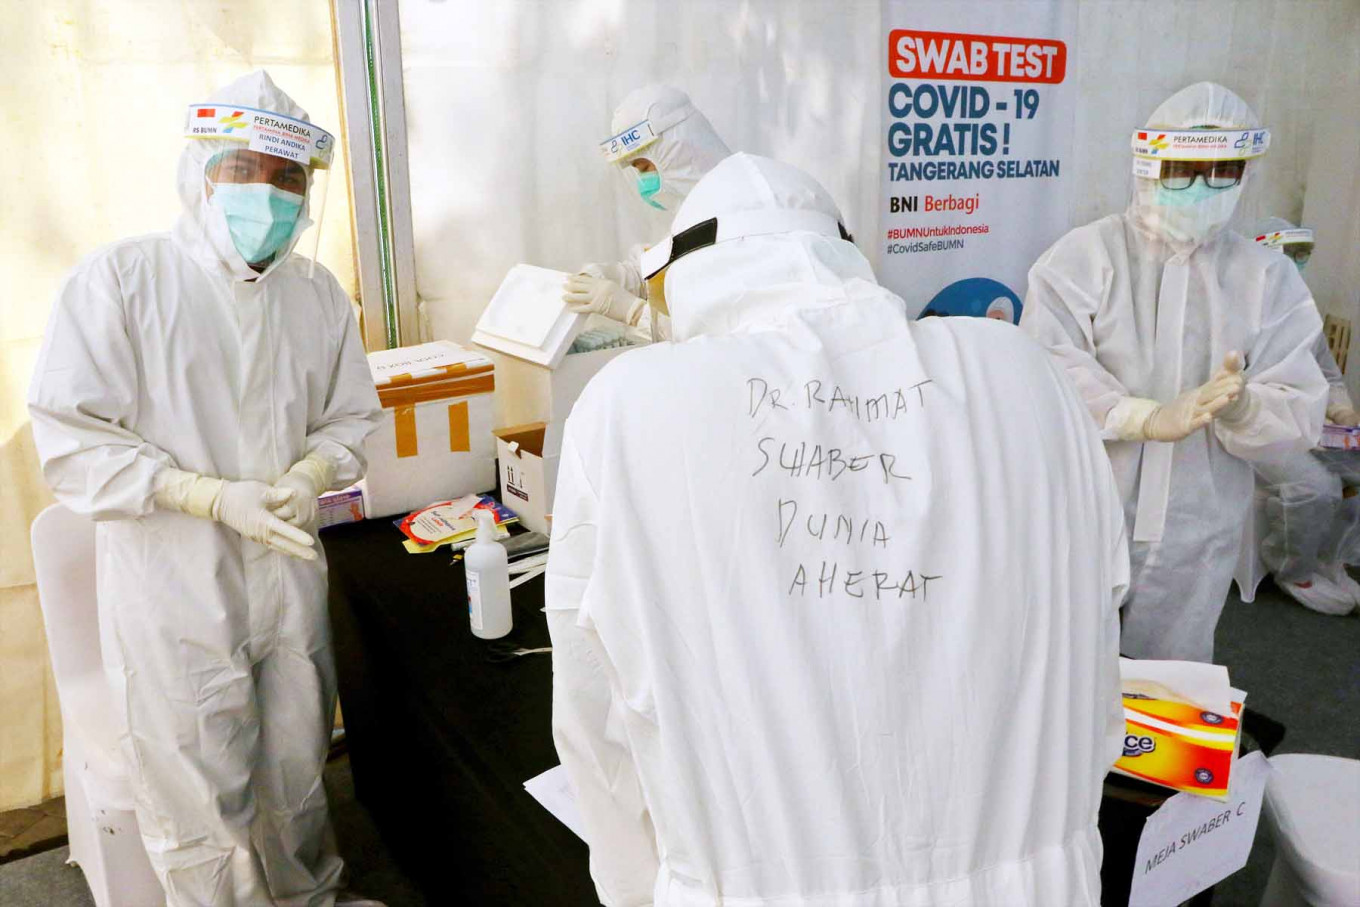Coverall: (537, 153, 1116, 907), (22, 64, 387, 907), (1010, 72, 1332, 737)
Face_Shield: (176, 98, 337, 284), (1118, 110, 1282, 260), (595, 108, 682, 240)
Gloves: (145, 462, 320, 572), (1110, 350, 1244, 452), (248, 450, 331, 556), (560, 270, 643, 326)
with_mask: (215, 149, 309, 278), (1154, 162, 1243, 252), (632, 156, 665, 209)
